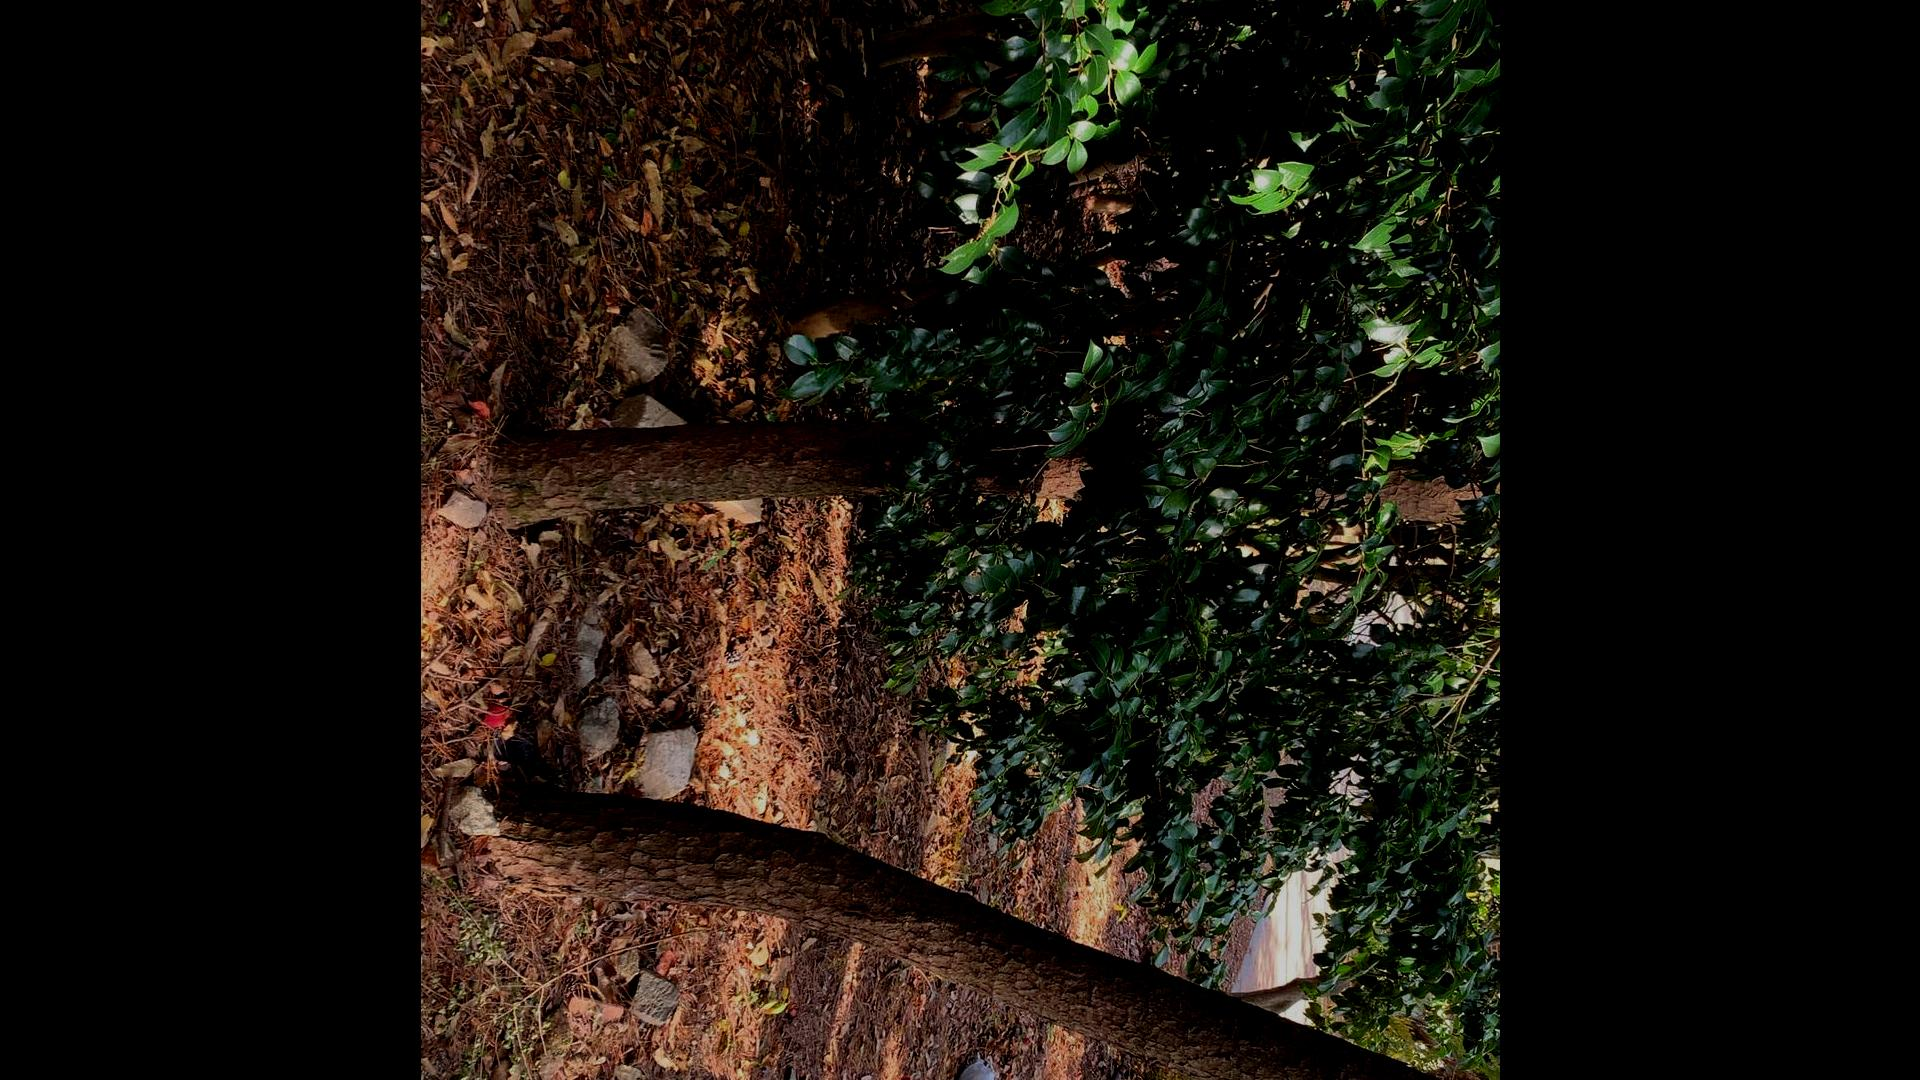white_bag: (945, 1054, 1000, 1080)
